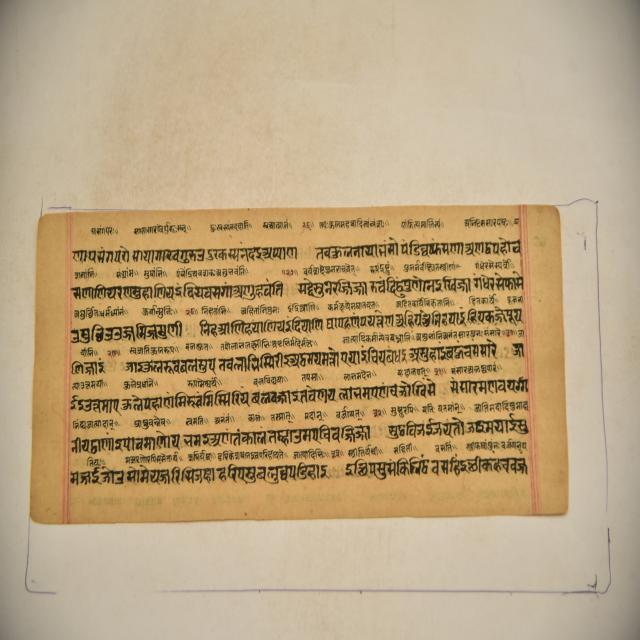text_paragraph: (36, 200, 566, 525)
